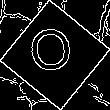O_S: (31, 28, 79, 82)
